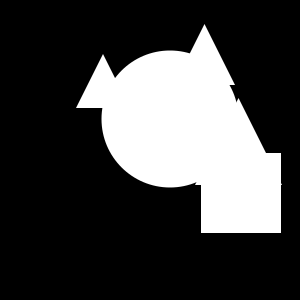circle: (201, 153, 281, 233)
rectangle: (102, 50, 238, 188)
triangle: (195, 98, 282, 185), (174, 24, 235, 85), (76, 54, 130, 108)
